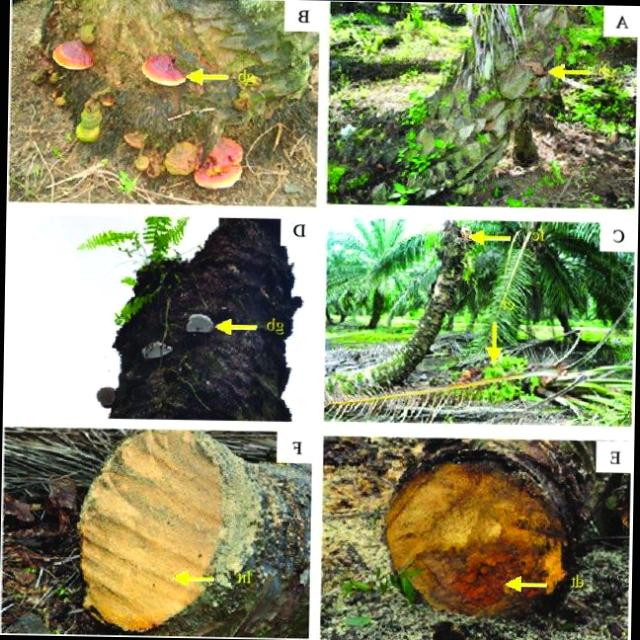ganoderma: (195, 140, 246, 190), (140, 52, 187, 89), (164, 140, 203, 178), (54, 40, 96, 70), (122, 130, 147, 149)
